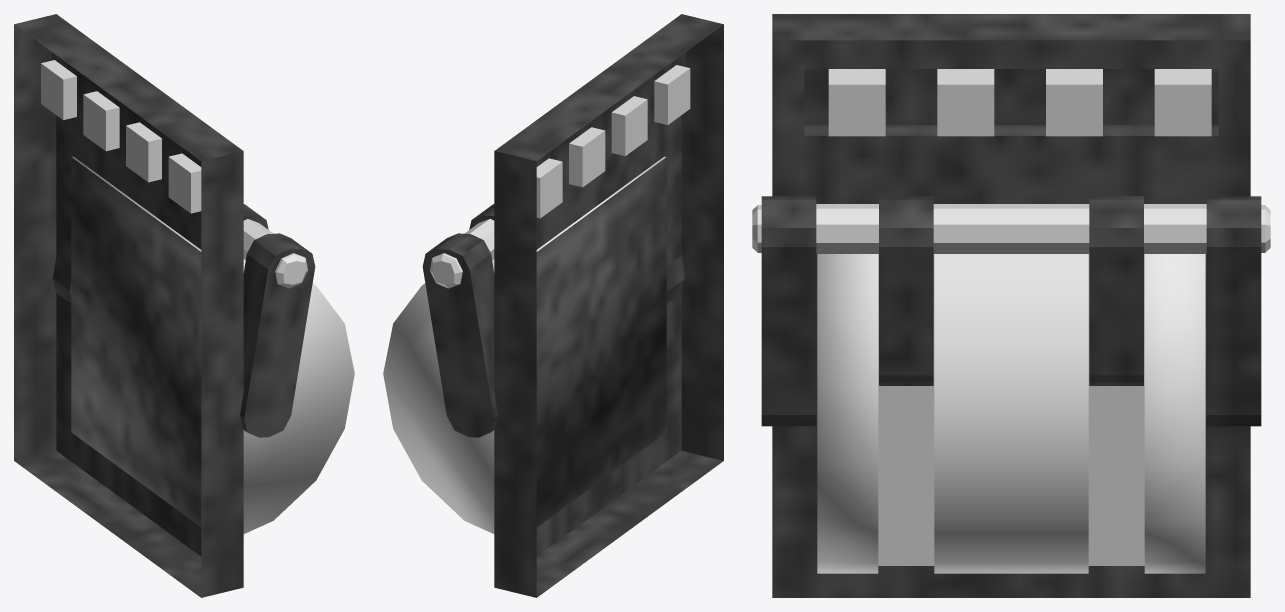
The model's file is Lever.fbx.
3 renders of one model, left to right at view 1: azimuth 30°, elevation 25°; view 2: azimuth 150°, elevation 25°; view 3: azimuth 270°, elevation 25°, orthographic. The views are drawn at different scales.
Parts seen in each view (by area): view 1: Cube.011, Cube.014, Cube.010; view 2: Cube.011, Cube.014, Cube.010; view 3: Cube.011, Cube.014, Cube.010.
Boxes of the visible parts, <box> form: Cube.011: <box>14,14,354,597</box>; Cube.014: <box>52,204,315,437</box>; Cube.010: <box>41,60,201,213</box>; Cube.011: <box>383,14,723,597</box>; Cube.014: <box>422,204,685,437</box>; Cube.010: <box>536,65,690,218</box>; Cube.011: <box>772,14,1250,597</box>; Cube.014: <box>752,196,1270,426</box>; Cube.010: <box>828,69,1211,136</box>.
Bounding box in the file's own units: 40.11 × 97.8 × 82.4.
